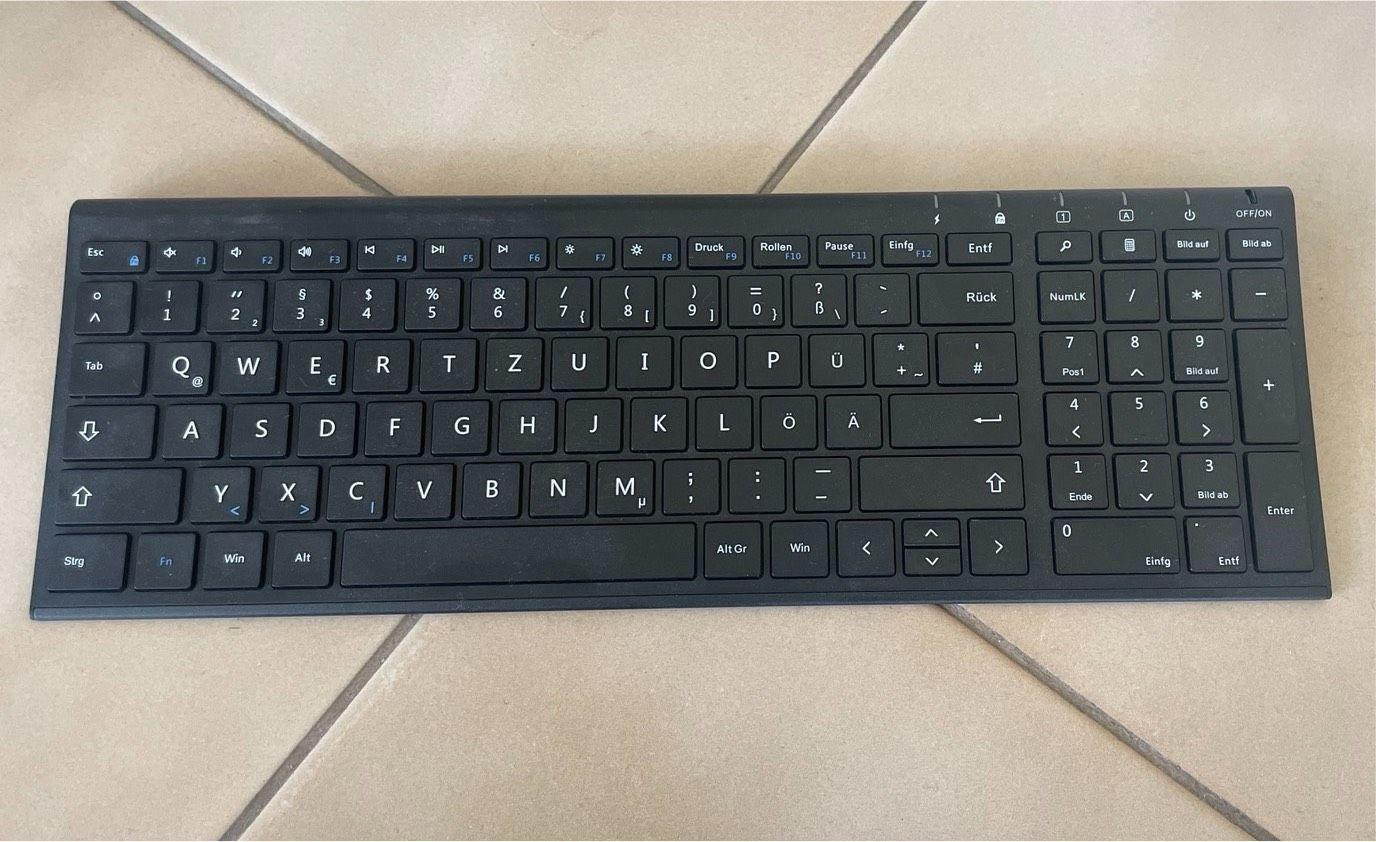0: (724, 269, 782, 324)
1: (134, 275, 197, 330)
2: (201, 274, 263, 330)
3: (268, 273, 330, 330)
4: (335, 272, 394, 328)
5: (399, 272, 460, 328)
6: (465, 272, 526, 327)
7: (531, 271, 590, 327)
8: (595, 271, 654, 327)
9: (659, 270, 719, 326)
a: (157, 397, 220, 456)
accent: (850, 267, 908, 322)
ae: (820, 388, 880, 447)
alt-left: (270, 529, 336, 592)
altgr-right: (703, 522, 765, 583)
b: (456, 456, 521, 516)
c: (321, 459, 385, 518)
caret: (69, 276, 130, 331)
comma: (657, 452, 719, 511)
d: (291, 396, 355, 455)
del: (914, 265, 1013, 322)
e: (281, 333, 343, 391)
enter: (885, 386, 1018, 445)
f: (360, 394, 421, 453)
g: (426, 394, 488, 452)
h: (493, 393, 555, 451)
hash: (932, 326, 1015, 382)
i: (612, 330, 671, 386)
j: (560, 391, 620, 450)
k: (625, 390, 686, 449)
keyboard: (19, 179, 1336, 621)
l: (691, 390, 750, 447)
m: (590, 453, 654, 513)
minus: (789, 451, 849, 509)
n: (524, 455, 587, 515)
o: (675, 330, 736, 386)
oe: (756, 390, 816, 447)
p: (740, 328, 799, 385)
plus: (868, 326, 927, 383)
point: (724, 452, 785, 509)
q: (145, 335, 211, 394)
r: (347, 332, 409, 390)
s: (225, 397, 288, 455)
shift-left: (50, 461, 180, 522)
shift-lock: (58, 398, 152, 457)
shift-right: (853, 448, 1023, 508)
space: (339, 522, 700, 587)
ss: (786, 268, 845, 323)
strg-left: (43, 529, 132, 590)
t: (415, 331, 475, 388)
tab: (63, 336, 142, 393)
u: (546, 331, 606, 388)
ue: (803, 327, 863, 385)
v: (389, 457, 453, 517)
w: (214, 334, 276, 393)
x: (252, 460, 317, 518)
y: (183, 460, 249, 520)
z: (480, 331, 542, 389)
